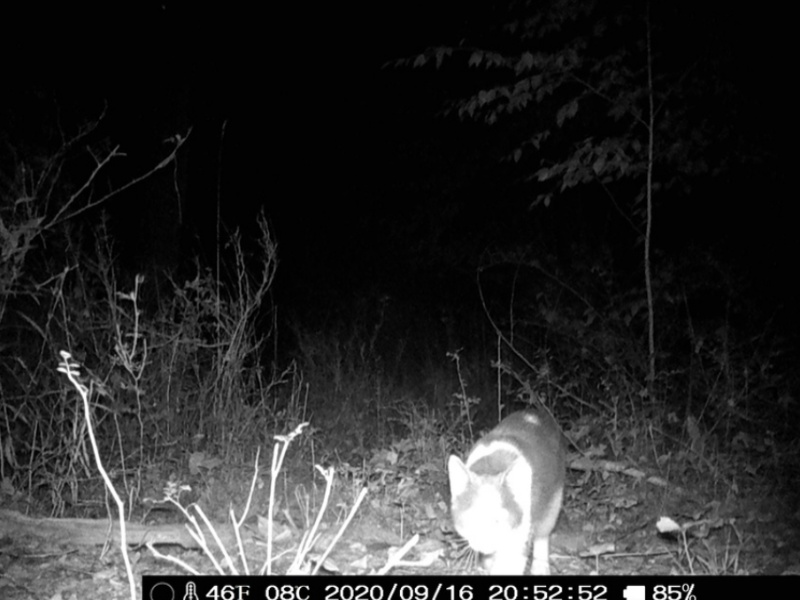cat: (444, 407, 567, 570)
